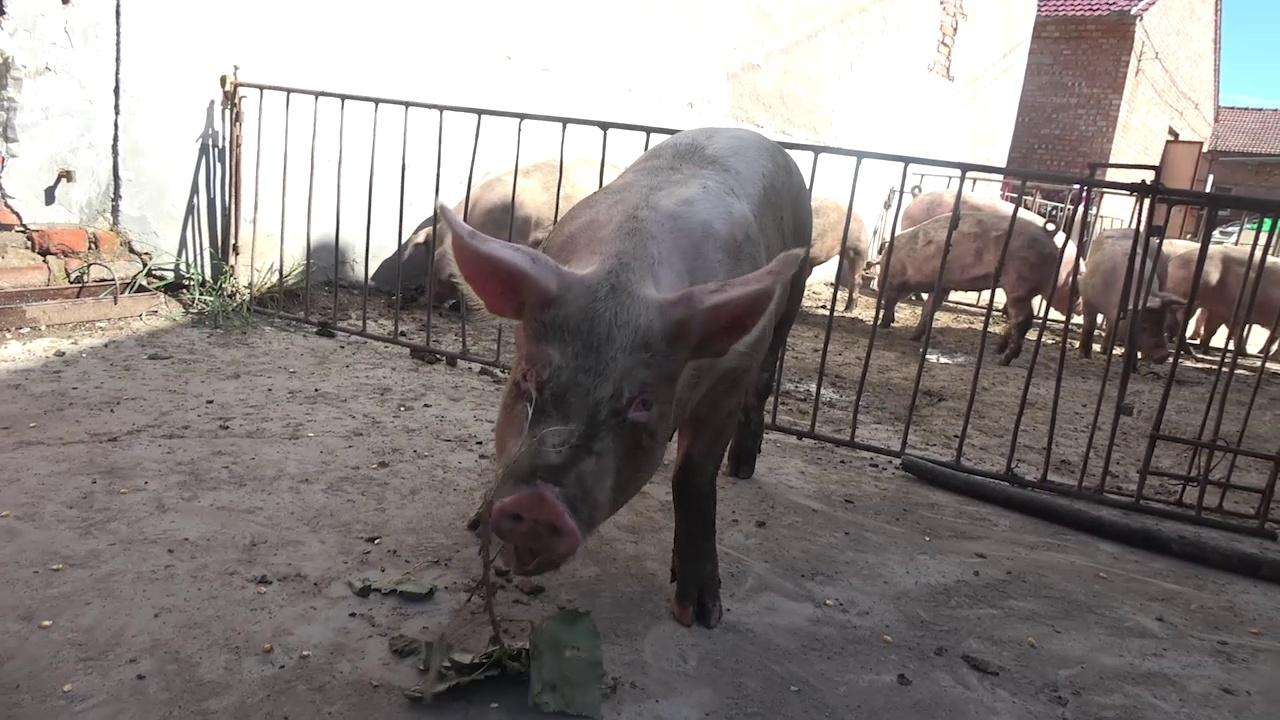Face: (425, 190, 814, 583)
